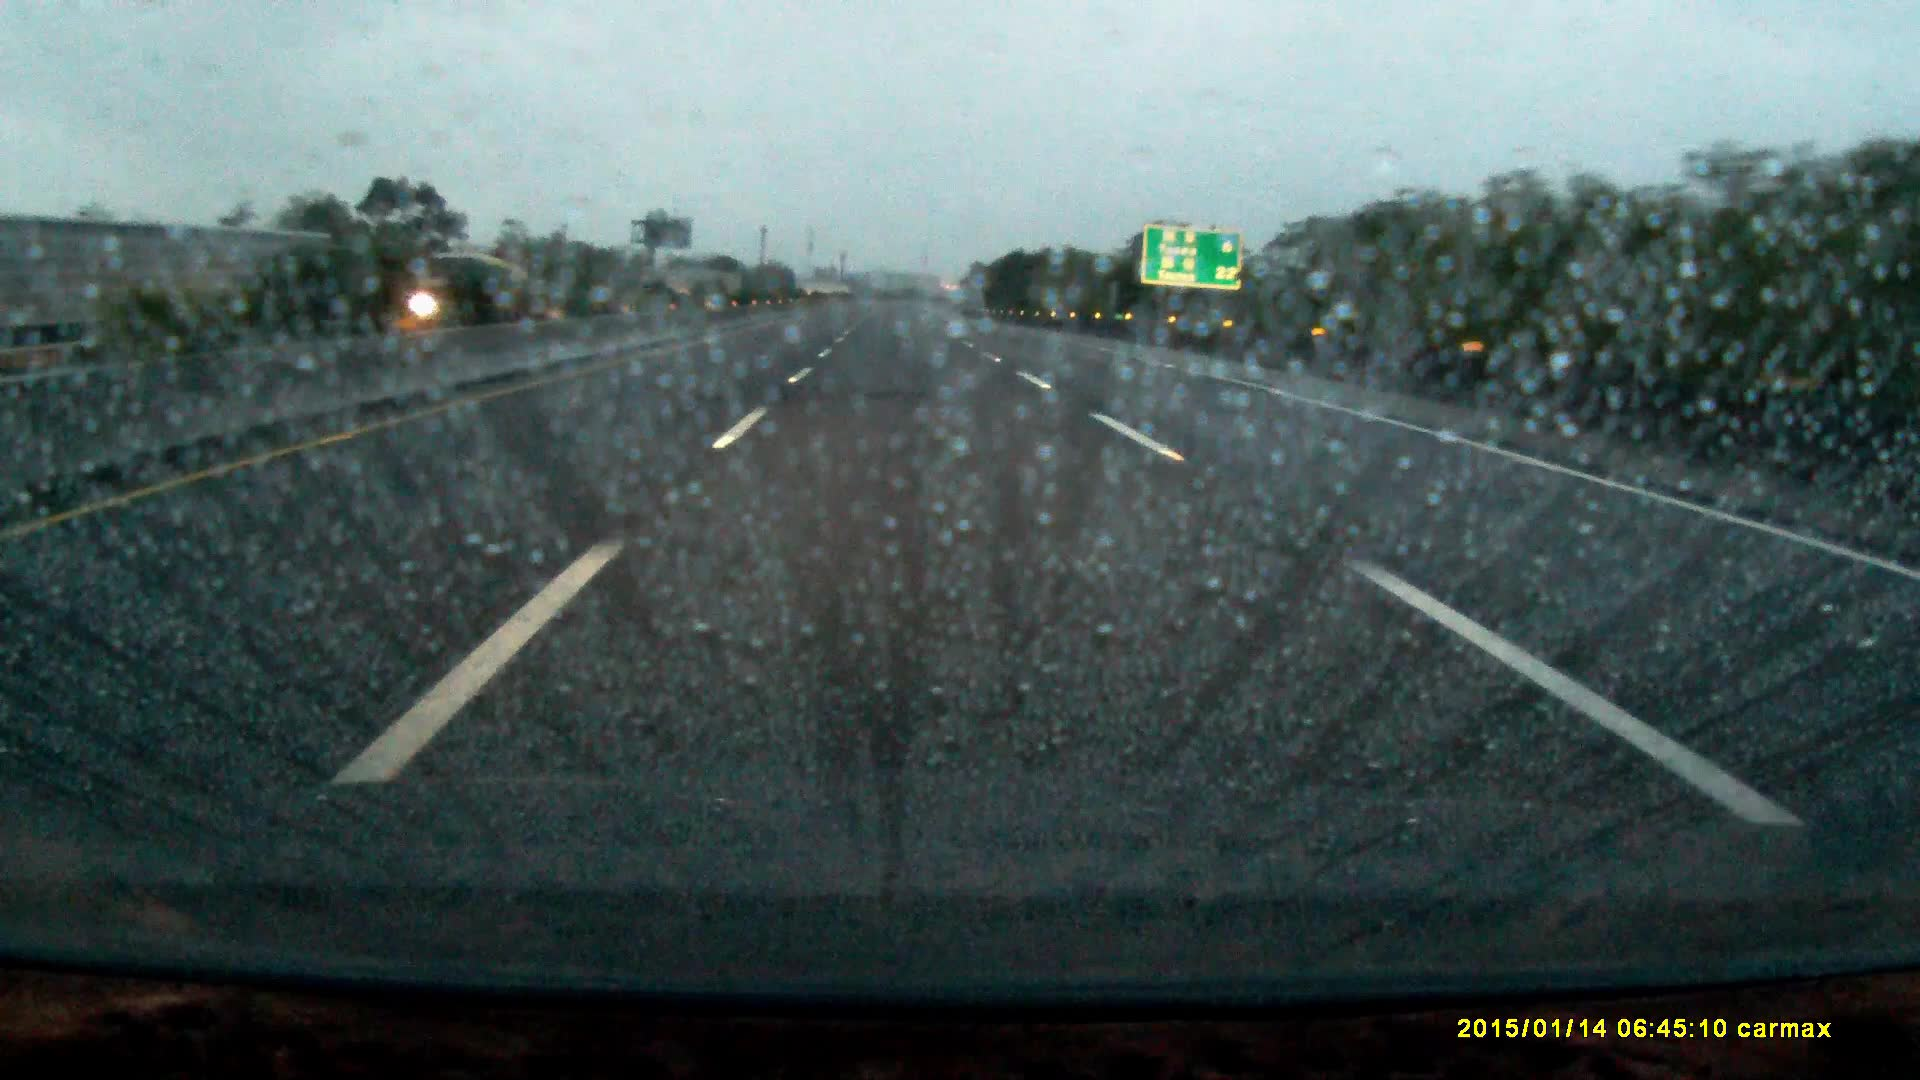vehicle: (418, 253, 535, 316)
